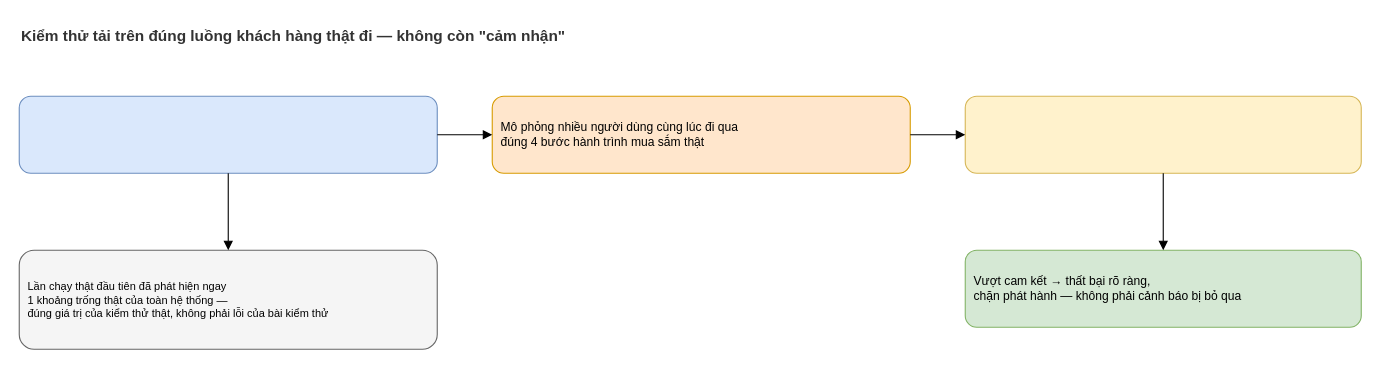
The diagram is 1381 pixels wide and 369 high, and some of its shapes have lost their labels. The centre of each missing label's shape, as x and y in pixels:
Mỗi bộ phận đã có cam kết tốc độ phản hồi riêng: (x=227, y=134)
Đối chiếu ngay với cam kết — biết chắc bước nào đạt, bước nào đuối: (x=1162, y=134)
